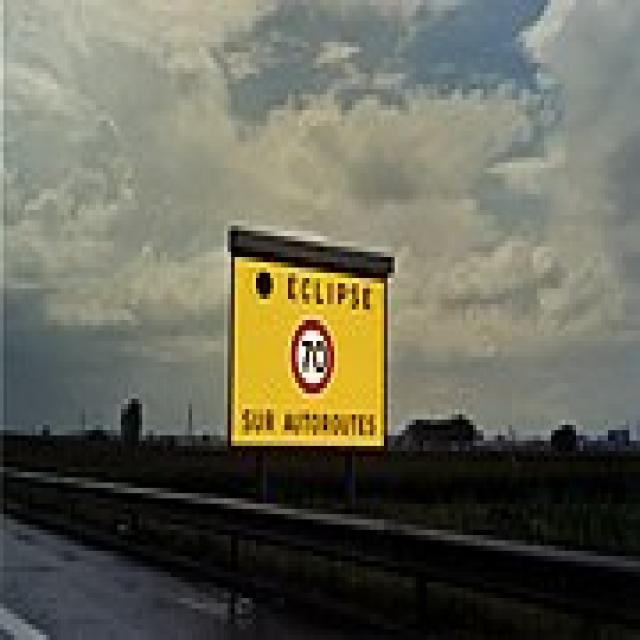Speed Limit -70-: (229, 216, 396, 447), (285, 314, 340, 396)
